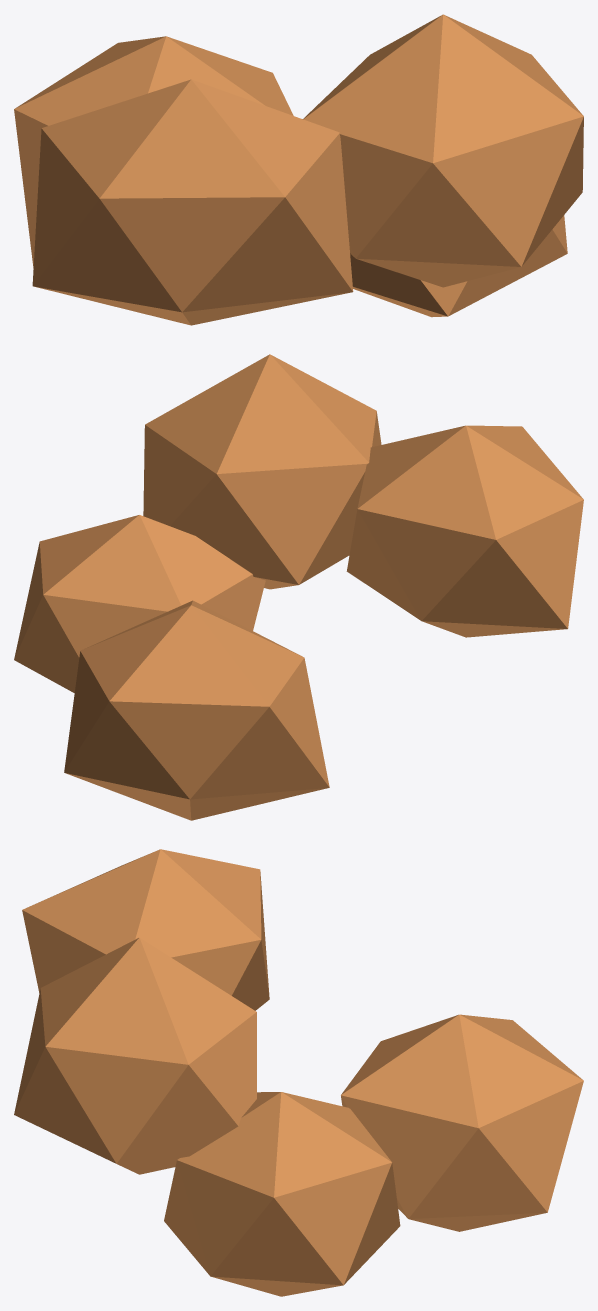
The model's file is purified-copper-ore.glb.
The picture shows the model from 3 angles, top to bottom: view 1: azimuth 30°, elevation 25°; view 2: azimuth 150°, elevation 25°; view 3: azimuth 270°, elevation 25°; orthographic projection. The views are drawn at different scales.
Visible parts, largest first — view 1: purified-copper-ore / Copper; view 2: purified-copper-ore / Copper; view 3: purified-copper-ore / Copper.
Boxes of the visible parts, <box> form: purified-copper-ore / Copper: <box>14,14,583,325</box>; purified-copper-ore / Copper: <box>14,354,583,820</box>; purified-copper-ore / Copper: <box>14,849,583,1296</box>.
Size of the model in its own units: 0.2073 by 0.134 by 0.2073.
